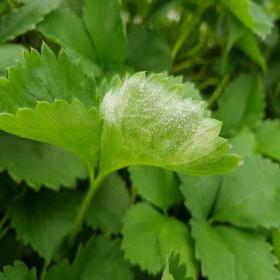Powdery Mildew Leaf: (99, 71, 244, 177)
